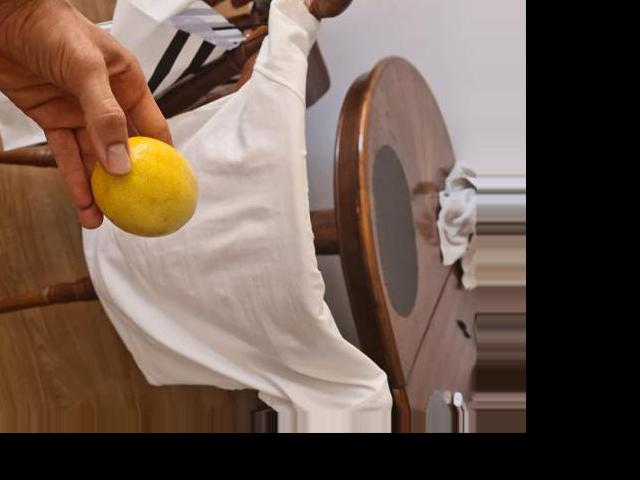lemon: (93, 141, 196, 234)
